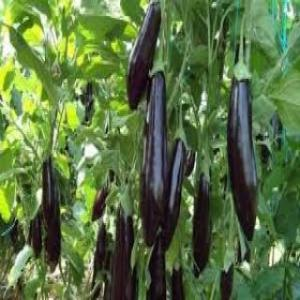eggplant: (228, 63, 256, 237), (144, 64, 166, 247), (128, 7, 158, 110), (112, 190, 136, 298), (41, 151, 61, 271), (192, 158, 210, 274)
